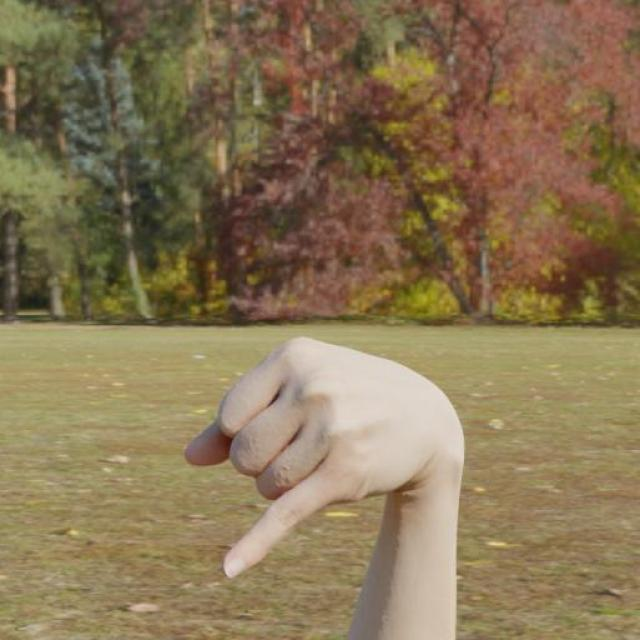J: (180, 330, 470, 582)
